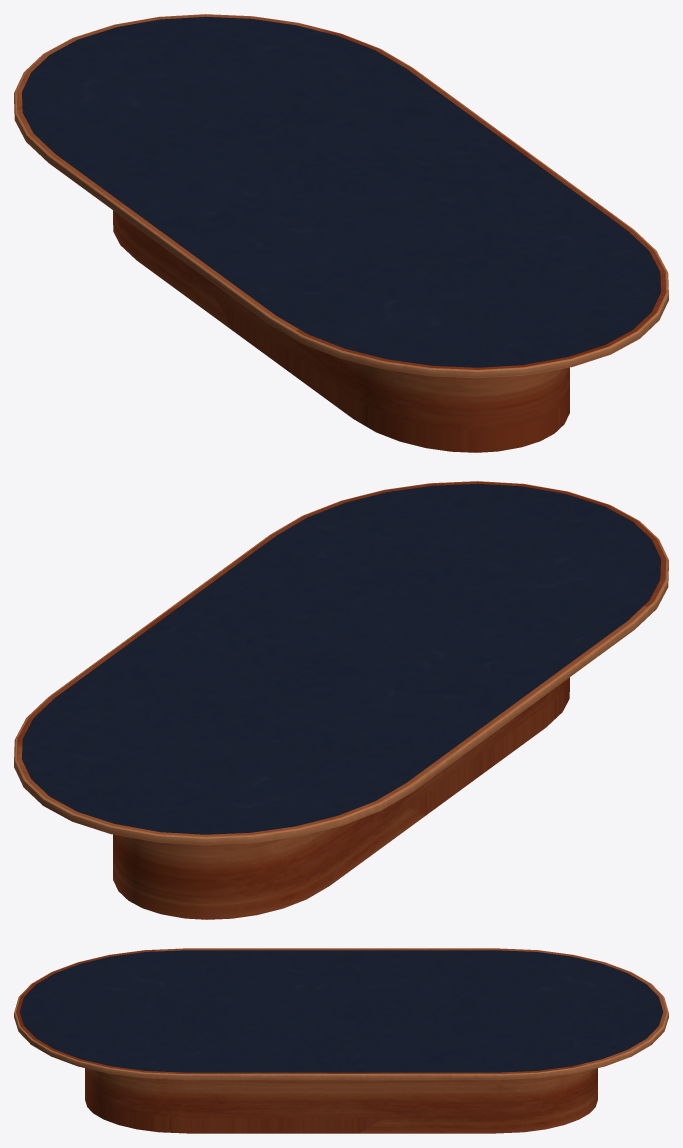
File: ConferenceRoom Table.FBX
The picture shows the model from 3 angles, top to bottom: view 1: azimuth 30°, elevation 25°; view 2: azimuth 150°, elevation 25°; view 3: azimuth 270°, elevation 25°; orthographic projection. The views are drawn at different scales.
Parts seen in each view (by area): view 1: Table; view 2: Table; view 3: Table.
Part boxes in pixels (box(x1,y1,x2,y2)): Table: box(14, 14, 668, 452); Table: box(14, 481, 668, 919); Table: box(14, 948, 668, 1133).
Size of the model in its own units: 78.57 by 25.49 by 171.
